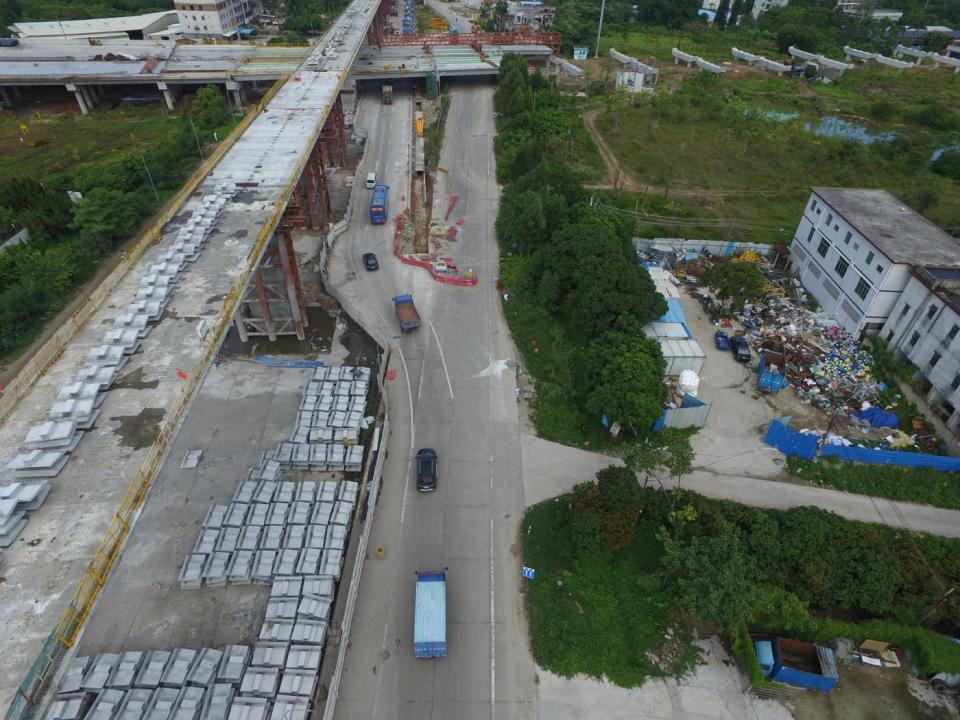bus: (370, 185, 387, 224)
car: (416, 449, 436, 494), (730, 336, 750, 361), (362, 252, 378, 271), (435, 259, 446, 274)
truck: (749, 636, 840, 694), (414, 570, 449, 659), (758, 350, 786, 394), (392, 293, 422, 334), (784, 59, 804, 79), (383, 85, 393, 105)
van: (366, 173, 376, 188)
